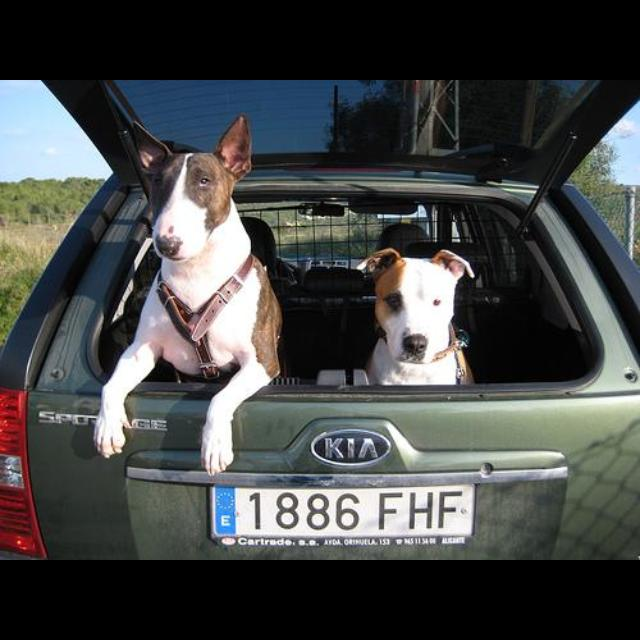amstaff: (356, 247, 476, 387)
bullterrier: (94, 114, 284, 477)
